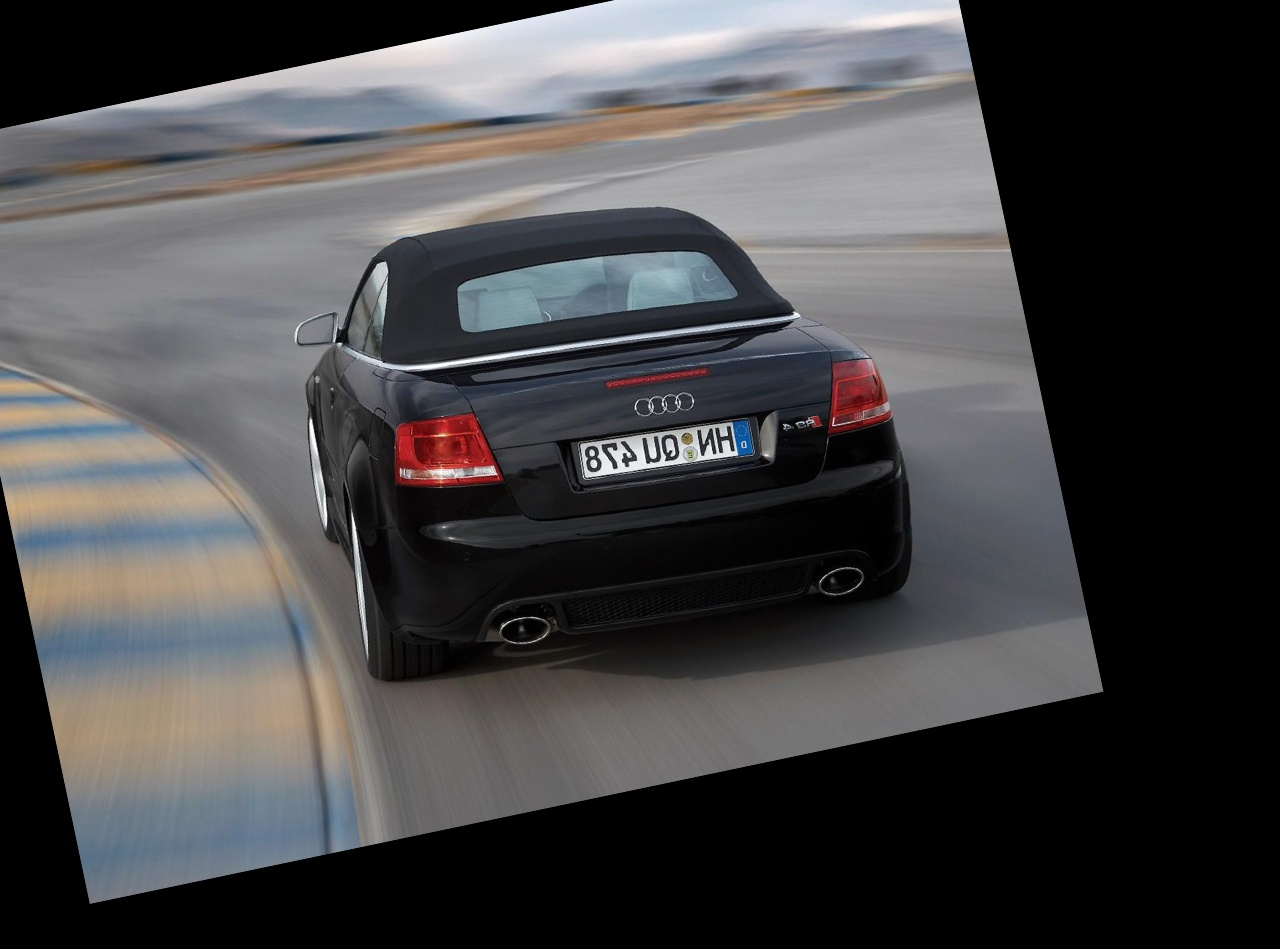car: (208, 111, 965, 750)
